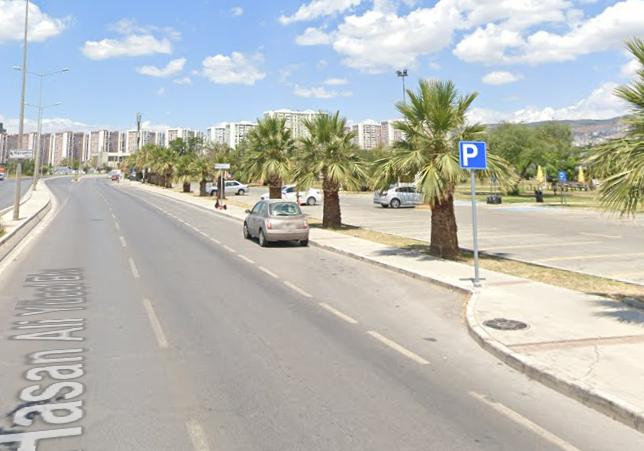park: (460, 141, 487, 168)
